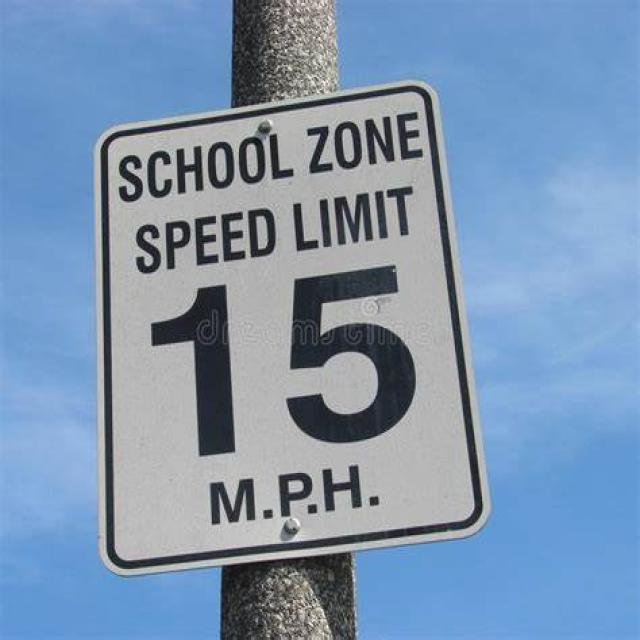speedLimit15: (94, 112, 473, 565)
